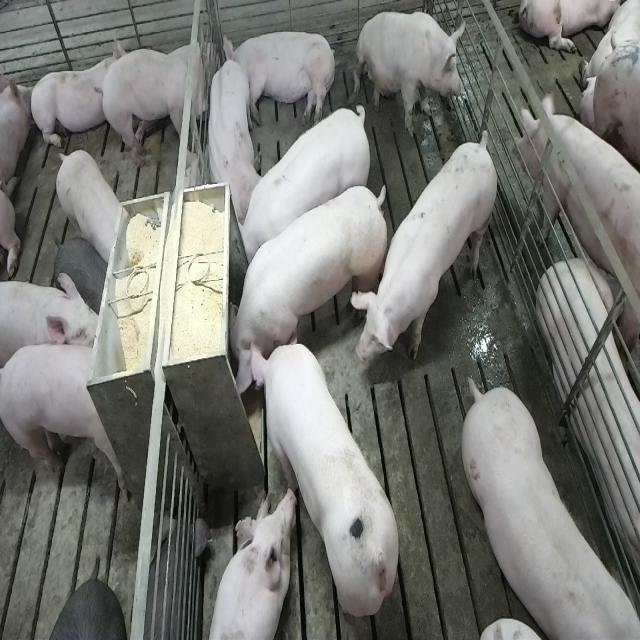Feeding: (245, 334, 401, 620), (220, 177, 386, 393)
Lateral_lying: (539, 261, 640, 606), (222, 28, 338, 128)
Sitting: (354, 8, 466, 138)
Standing: (463, 382, 640, 640), (357, 130, 502, 388), (516, 93, 640, 351), (238, 98, 371, 266), (1, 343, 126, 497), (98, 46, 216, 174), (1, 275, 102, 413), (52, 150, 126, 264)
Sternal_lying: (206, 489, 294, 640), (28, 35, 118, 153), (204, 50, 262, 224)
